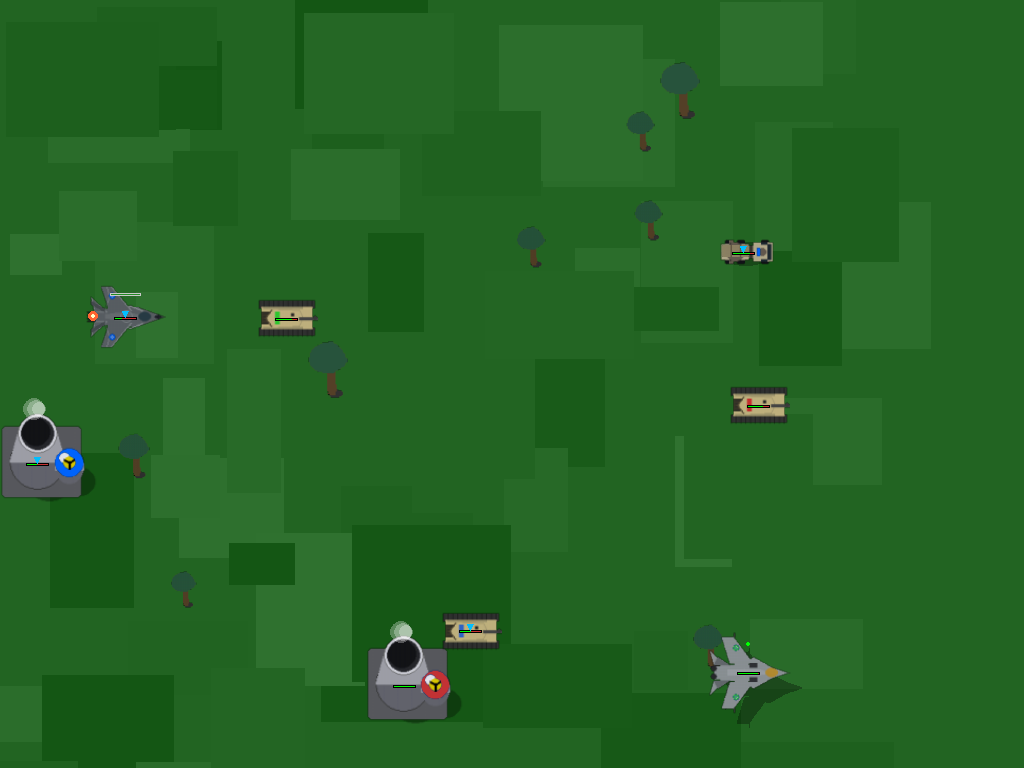AttackPlane_usa: (723, 646, 774, 697)
FighterJet_usa: (103, 294, 146, 337)
HIMARS: (717, 225, 768, 276)
M1A2_usa: (730, 376, 786, 432), (257, 289, 313, 345), (442, 601, 498, 657)
PowerPlant: (370, 651, 437, 718), (3, 429, 70, 496)
